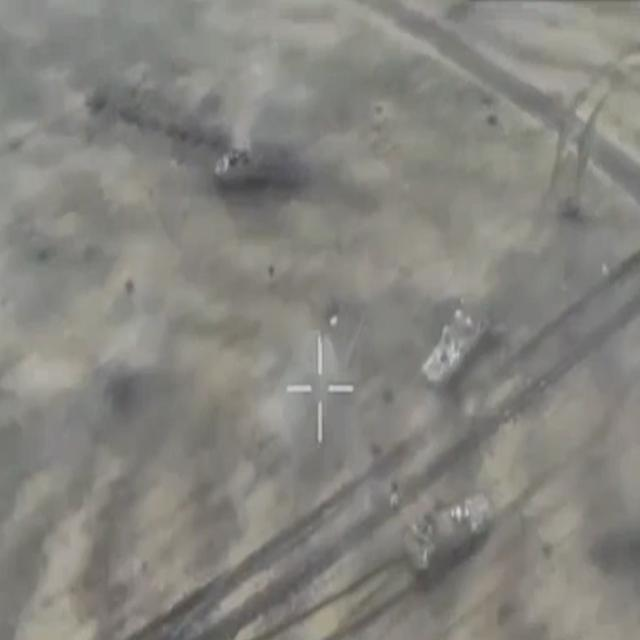vehicle: (403, 492, 493, 580), (424, 303, 485, 386), (210, 144, 264, 190)
